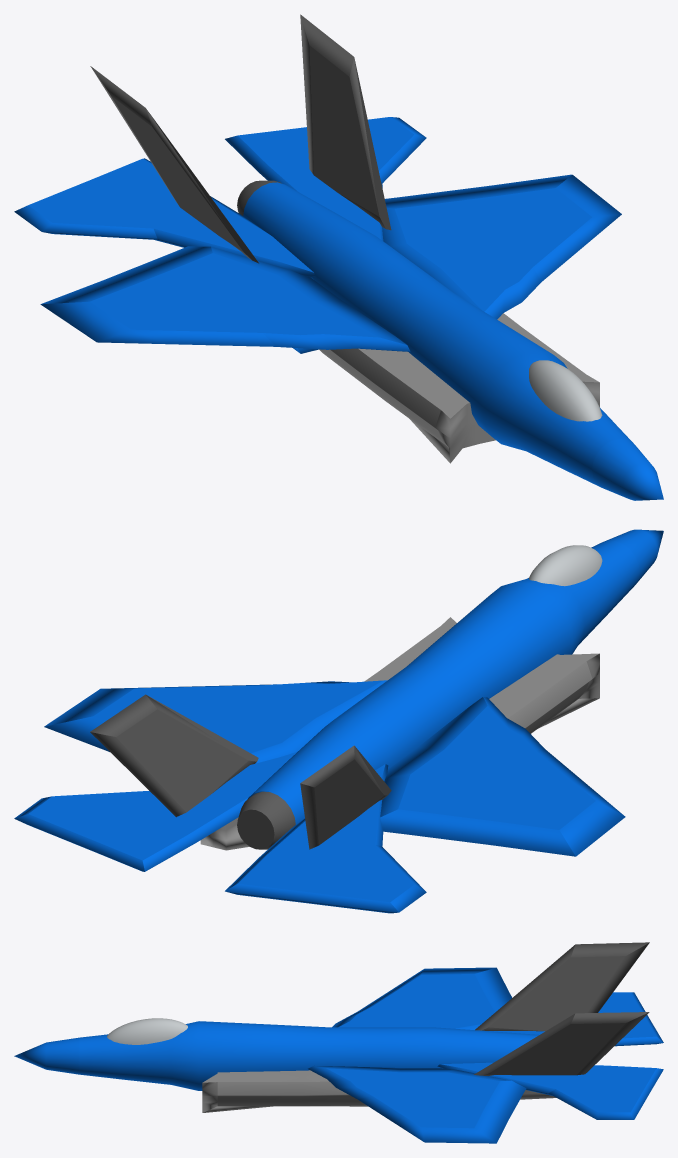
The model's file is EnemySentouki.fbx.
3 views of the same model, one above another, from view 1: azimuth 30°, elevation 25°; view 2: azimuth 150°, elevation 25°; view 3: azimuth 270°, elevation 25° (orthographic). The views are drawn at different scales.
Visible parts, largest first — view 1: sentouki3:pCube2, sentouki3:pCylinder2, sentouki3:pCube9, sentouki3:pCube10, sentouki3:pCube3, sentouki3:pCube8, sentouki3:pCube11, sentouki3:pSphere1; view 2: sentouki3:pCube2, sentouki3:pCylinder2, sentouki3:pCube8, sentouki3:pCube9, sentouki3:pCube10, sentouki3:pCube3, sentouki3:pCube11, sentouki3:pCylinder1, sentouki3:pSphere1; view 3: sentouki3:pCylinder2, sentouki3:pCube2, sentouki3:pCube11, sentouki3:pCube10, sentouki3:pCube8, sentouki3:pCube3, sentouki3:pCube9, sentouki3:pSphere1.
Part boxes in pixels (x1,y1,x2,y2): sentouki3:pCube2: (40, 174, 621, 351); sentouki3:pCylinder2: (243, 182, 663, 500); sentouki3:pCube9: (14, 158, 315, 279); sentouki3:pCube10: (300, 14, 391, 230); sentouki3:pCube3: (319, 313, 599, 463); sentouki3:pCube8: (225, 117, 426, 240); sentouki3:pCube11: (90, 66, 258, 263); sentouki3:pSphere1: (529, 360, 602, 421); sentouki3:pCube2: (44, 680, 625, 856); sentouki3:pCylinder2: (247, 529, 663, 824); sentouki3:pCube8: (14, 751, 297, 871); sentouki3:pCube9: (225, 764, 426, 913); sentouki3:pCube10: (90, 694, 258, 817); sentouki3:pCube3: (200, 617, 599, 850); sentouki3:pCube11: (300, 745, 391, 849); sentouki3:pCylinder1: (237, 791, 295, 849); sentouki3:pSphere1: (529, 545, 602, 586); sentouki3:pCylinder2: (14, 1021, 538, 1090); sentouki3:pCube2: (308, 967, 526, 1143); sentouki3:pCube11: (475, 942, 649, 1031); sentouki3:pCube10: (474, 1012, 649, 1075); sentouki3:pCube8: (437, 1062, 663, 1119); sentouki3:pCube3: (202, 1070, 556, 1112); sentouki3:pCube9: (489, 992, 663, 1046); sentouki3:pSphere1: (107, 1018, 187, 1044).
Bounding box in the file's own units: 12.56 × 3.7 × 19.59.
